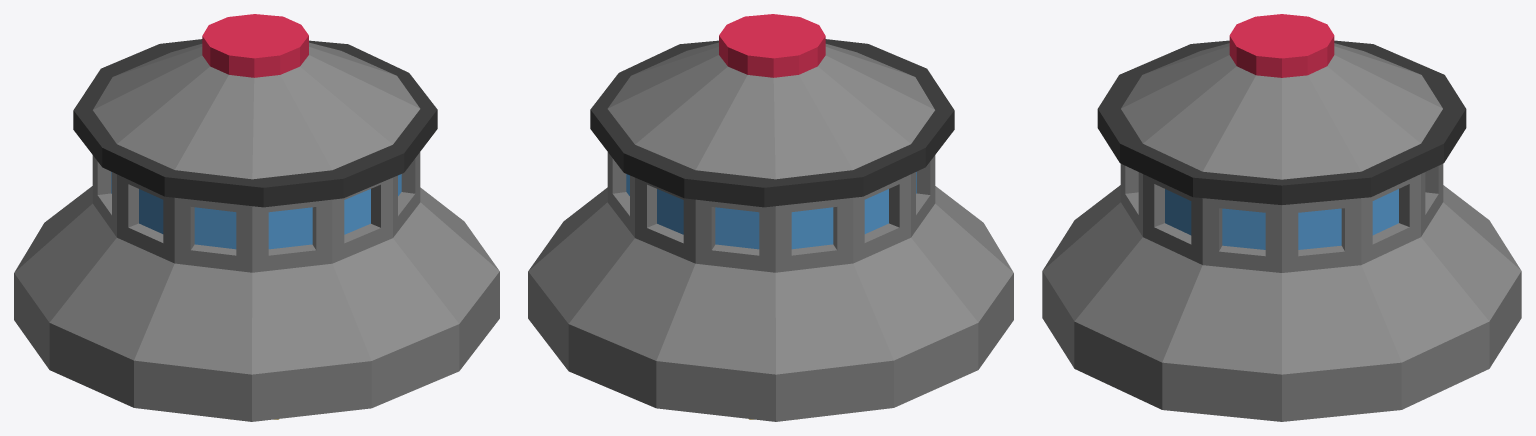
File: UFO.dae
3 renders of one model, left to right at view 1: azimuth 30°, elevation 25°; view 2: azimuth 150°, elevation 25°; view 3: azimuth 270°, elevation 25°, orthographic.
Parts seen in each view (by area): view 1: Cube.003; view 2: Cube.003; view 3: Cube.003.
Part boxes in pixels (x1,y1,x2,y2): Cube.003: (14,14,499,421); Cube.003: (528,14,1013,421); Cube.003: (1042,14,1521,421).
Size of the model in its own units: 1 by 1 by 0.7545.
